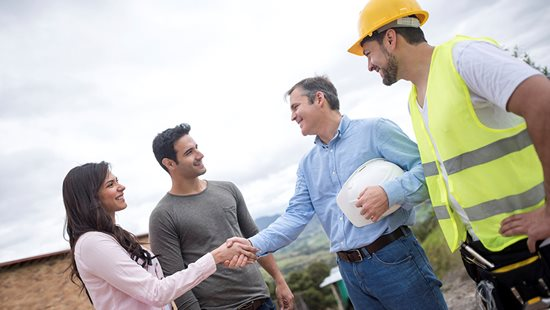epi: (346, 1, 550, 253)
noepi: (279, 73, 421, 310), (150, 125, 292, 309), (62, 161, 160, 310)
